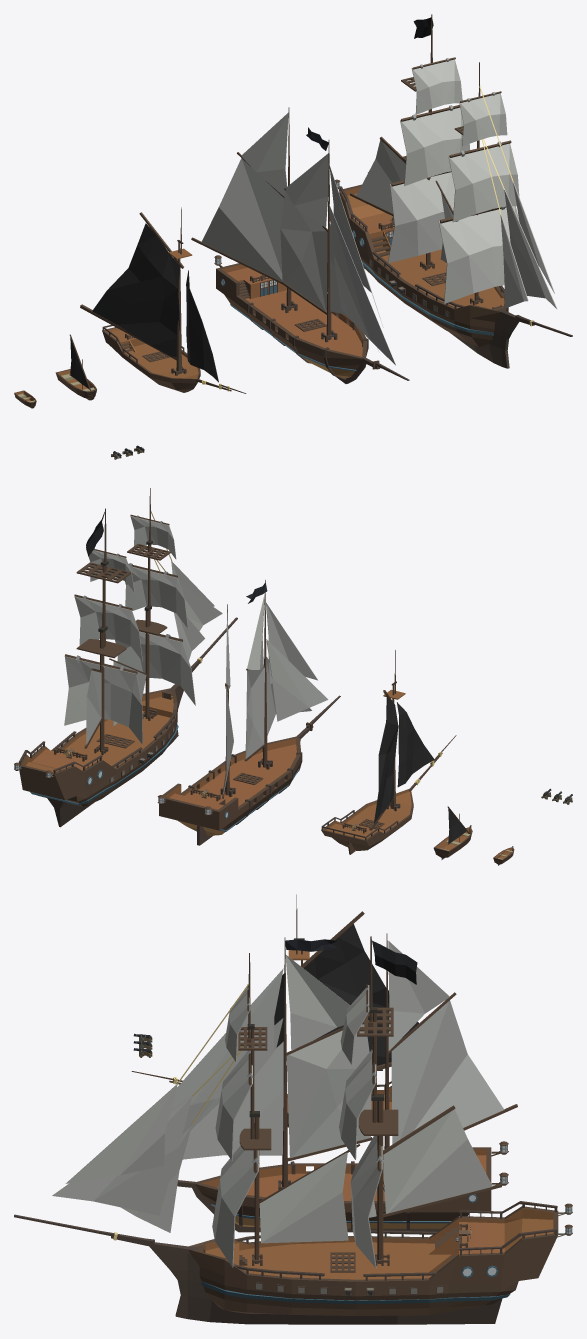
File: Low Poly Pirate Ships.obj
The picture shows the model from 3 angles, top to bottom: view 1: azimuth 30°, elevation 25°; view 2: azimuth 150°, elevation 25°; view 3: azimuth 270°, elevation 25°; orthographic projection. The views are drawn at different scales.
Visible parts, largest first — view 1: Big_Ship, Vessel, Schooner, Sloop; view 2: Big_Ship, Vessel, Schooner, Sloop; view 3: Big_Ship, Vessel, Schooner.
Boxes of the visible parts, <box> form: Big_Ship: <box>335,14,572,368</box>; Vessel: <box>191,107,409,383</box>; Schooner: <box>80,207,246,393</box>; Sloop: <box>55,334,96,400</box>; Big_Ship: <box>14,488,237,827</box>; Vessel: <box>157,580,340,845</box>; Schooner: <box>321,650,456,854</box>; Sloop: <box>433,806,472,859</box>; Big_Ship: <box>14,936,572,1324</box>; Vessel: <box>171,933,517,1232</box>; Schooner: <box>131,894,418,1127</box>.
Bounding box in the file's own units: 808 × 506 × 663.
1 material, 1 textured.
